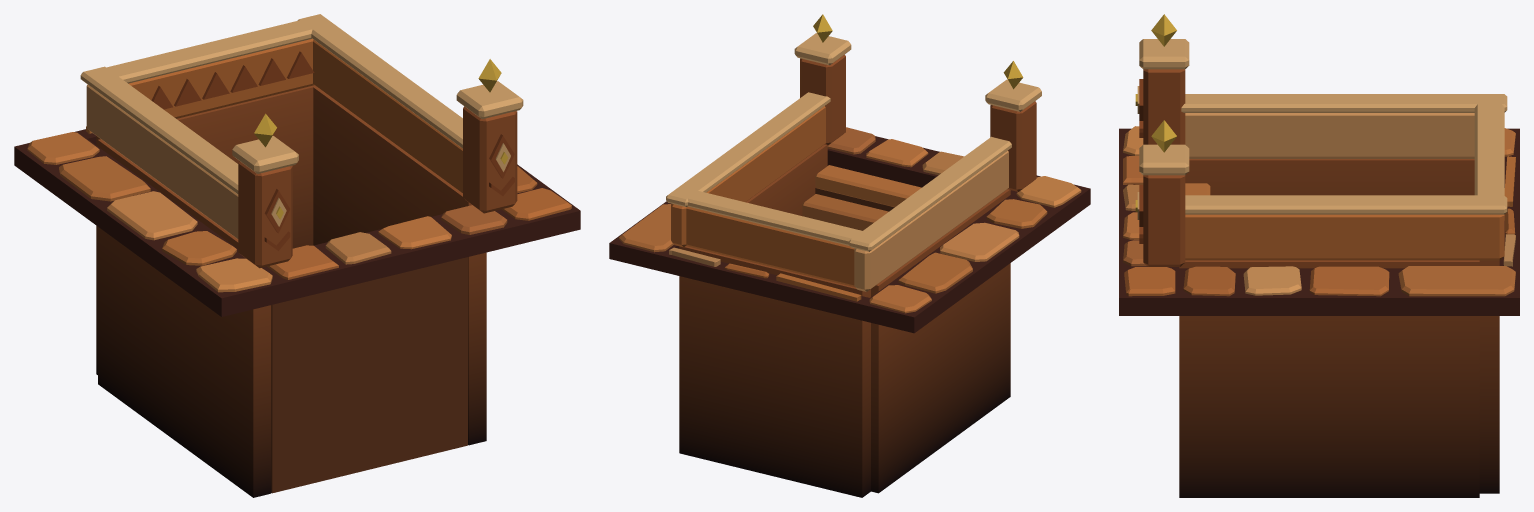
Rendered from stairs_down.fbx.
3 views of the same model, side by side, from view 1: azimuth 30°, elevation 25°; view 2: azimuth 150°, elevation 25°; view 3: azimuth 270°, elevation 25° (orthographic). The views are drawn at different scales.
Visible parts, largest first — view 1: stairs_down; view 2: stairs_down; view 3: stairs_down.
Part boxes in pixels (<box>): stairs_down: <box>14,14,580,497</box>; stairs_down: <box>609,14,1090,497</box>; stairs_down: <box>1119,14,1519,497</box>.
Bounding box in the file's own units: 4 × 4.14 × 4.
